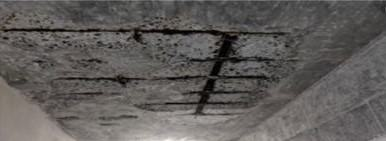Exposed reinforcement: (194, 34, 239, 115), (1, 27, 292, 37), (52, 75, 272, 84), (189, 55, 277, 64), (56, 90, 122, 96), (181, 90, 255, 95), (98, 113, 138, 122), (163, 101, 246, 105), (56, 115, 81, 122), (98, 122, 116, 127)
Spalling: (1, 12, 306, 127)
